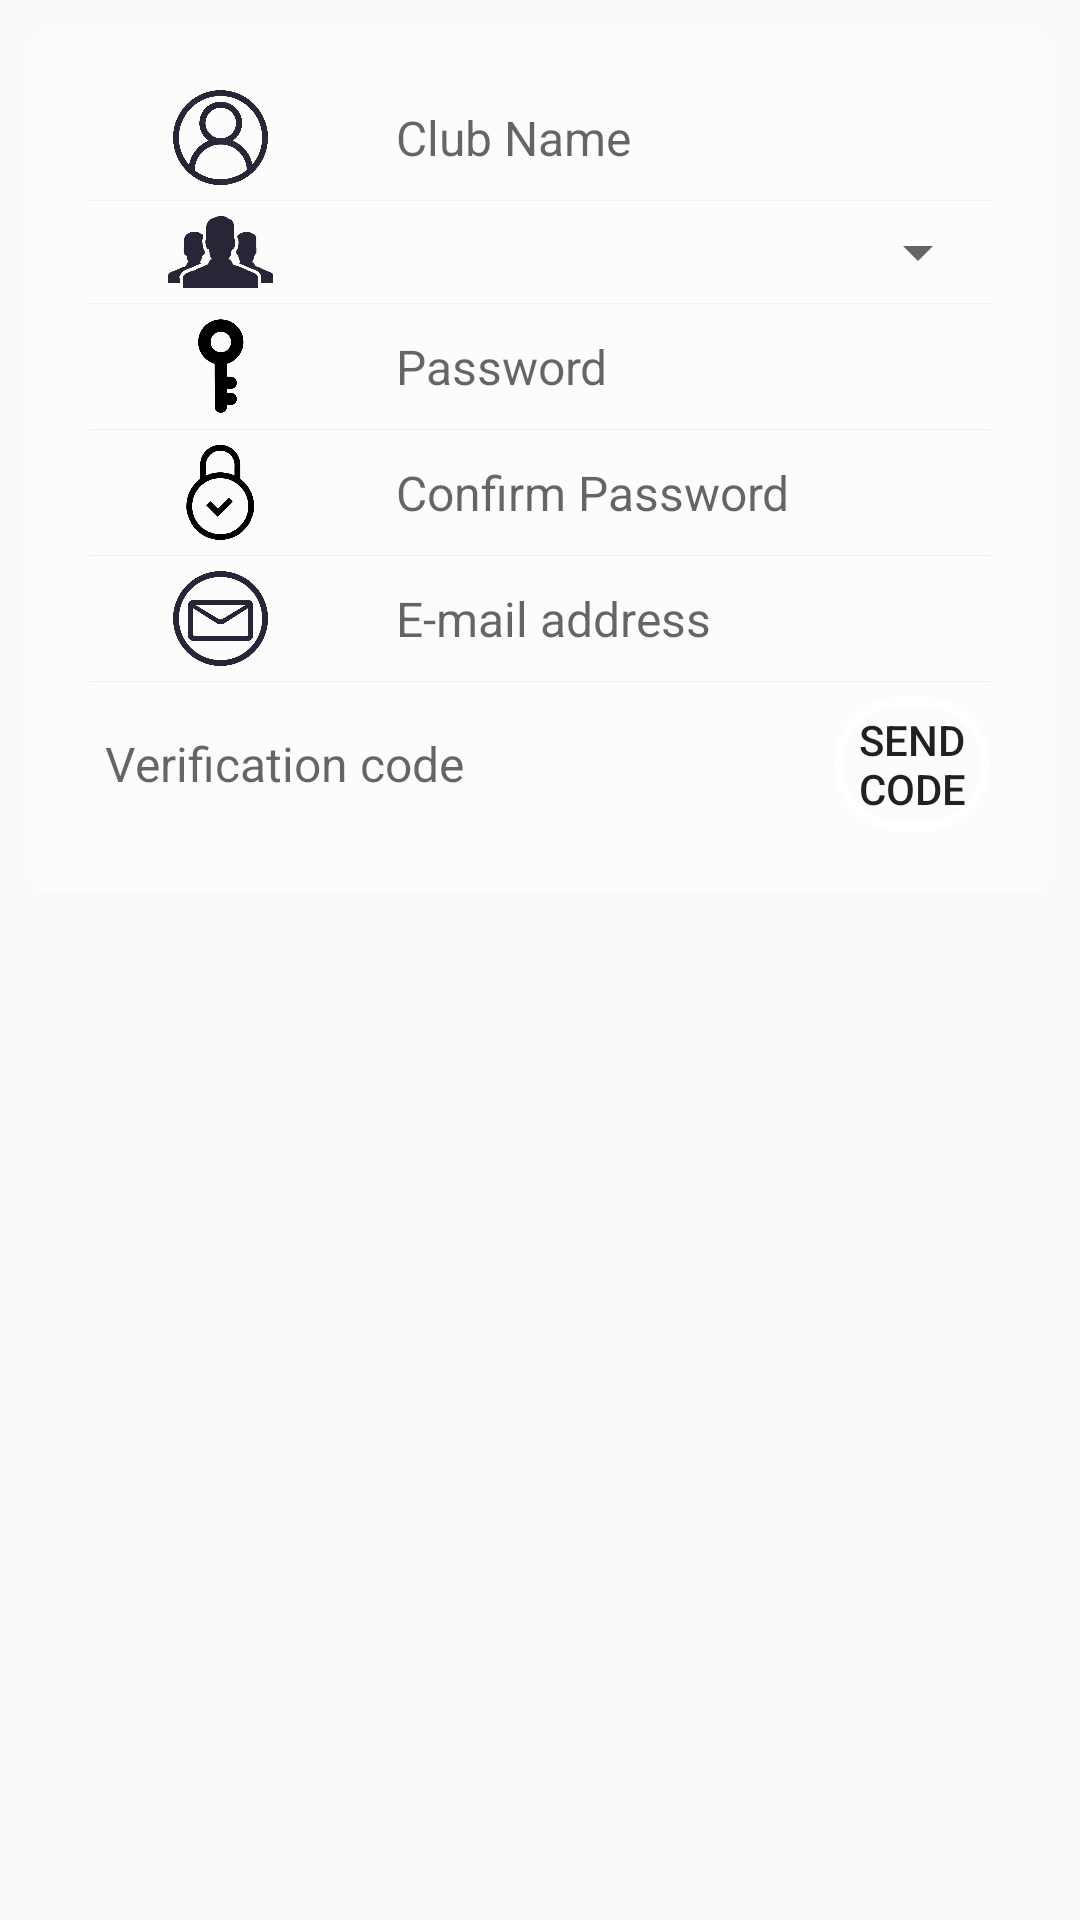

Icon bounding boxes for this 1080px x 1920px phone screenshot, format (x1, y1, x2, y2):
user: (173, 90, 268, 185)
